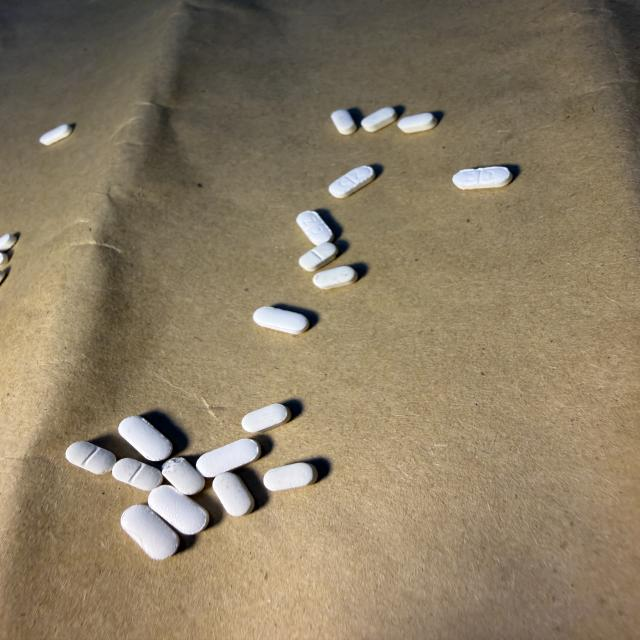pill: (121, 505, 179, 559), (148, 485, 209, 534), (196, 439, 260, 477), (119, 416, 172, 461), (213, 473, 254, 516), (112, 458, 162, 491), (66, 442, 116, 474), (162, 458, 205, 495), (253, 307, 309, 334), (264, 463, 317, 491), (329, 166, 375, 198), (452, 166, 513, 190), (242, 404, 291, 433), (297, 211, 333, 245), (299, 243, 337, 271), (313, 266, 357, 289), (362, 107, 397, 132), (398, 113, 437, 133), (40, 124, 73, 145), (331, 110, 356, 134), (0, 234, 16, 251), (0, 252, 8, 266), (0, 271, 6, 282)
